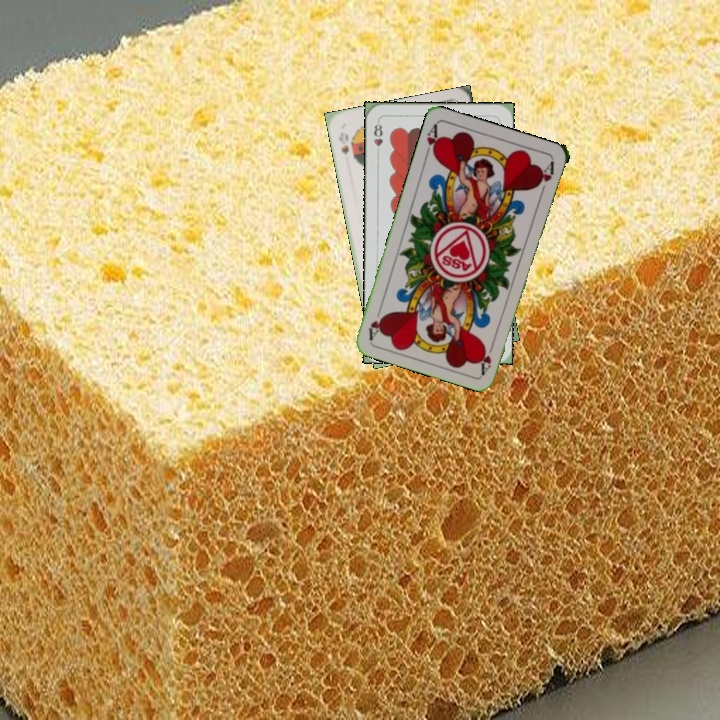H8: (370, 117, 385, 158)
HA: (421, 120, 443, 160), (477, 336, 497, 376)
SO: (335, 128, 351, 157)
